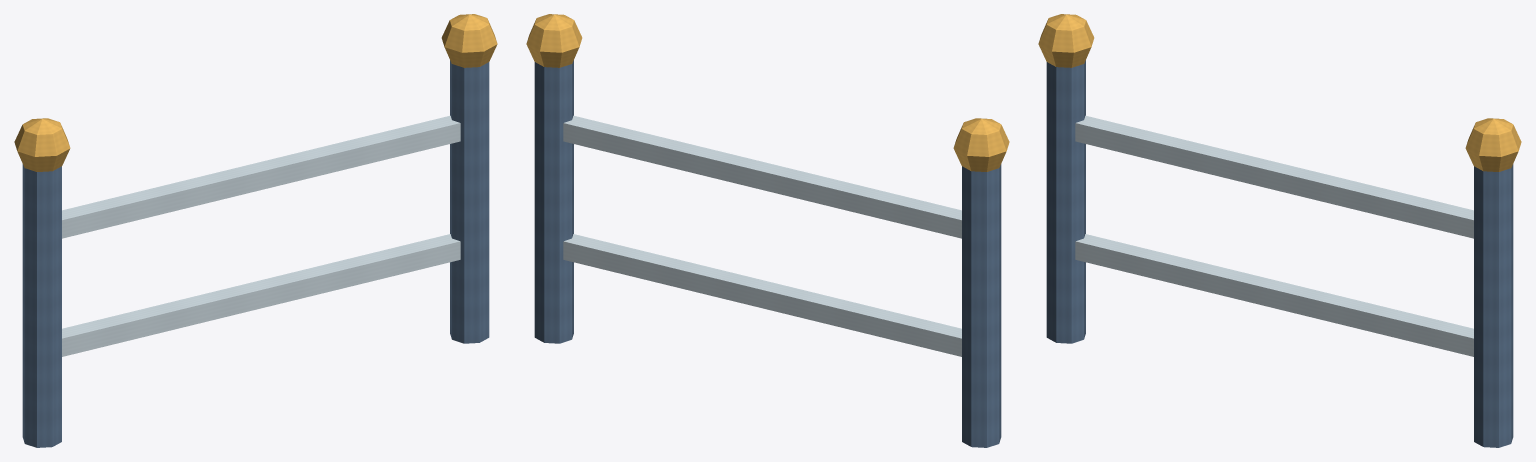
The model's file is atlas100-polar-util04.glb.
3 renders of one model, left to right at view 1: azimuth 30°, elevation 25°; view 2: azimuth 150°, elevation 25°; view 3: azimuth 330°, elevation 25°, orthographic.
Parts seen in each view (by area): view 1: atlas100-polar-util04:part-004, atlas100-polar-util04:part-005, atlas100-polar-util04:part-000, atlas100-polar-util04:part-002, atlas100-polar-util04:part-001, atlas100-polar-util04:part-003; view 2: atlas100-polar-util04:part-004, atlas100-polar-util04:part-005, atlas100-polar-util04:part-000, atlas100-polar-util04:part-002, atlas100-polar-util04:part-001, atlas100-polar-util04:part-003; view 3: atlas100-polar-util04:part-004, atlas100-polar-util04:part-005, atlas100-polar-util04:part-002, atlas100-polar-util04:part-000, atlas100-polar-util04:part-001, atlas100-polar-util04:part-003.
Boxes of the visible parts, <box> form: atlas100-polar-util04:part-004: <box>62,234,460,356</box>; atlas100-polar-util04:part-005: <box>62,115,460,238</box>; atlas100-polar-util04:part-000: <box>22,164,61,447</box>; atlas100-polar-util04:part-002: <box>450,60,489,343</box>; atlas100-polar-util04:part-001: <box>14,118,70,171</box>; atlas100-polar-util04:part-003: <box>441,14,497,67</box>; atlas100-polar-util04:part-004: <box>563,234,961,356</box>; atlas100-polar-util04:part-005: <box>563,115,961,238</box>; atlas100-polar-util04:part-000: <box>962,164,1001,447</box>; atlas100-polar-util04:part-002: <box>534,60,573,343</box>; atlas100-polar-util04:part-001: <box>953,118,1009,171</box>; atlas100-polar-util04:part-003: <box>526,14,582,67</box>; atlas100-polar-util04:part-004: <box>1075,234,1473,356</box>; atlas100-polar-util04:part-005: <box>1075,115,1473,238</box>; atlas100-polar-util04:part-002: <box>1474,164,1513,447</box>; atlas100-polar-util04:part-000: <box>1046,60,1085,343</box>; atlas100-polar-util04:part-001: <box>1038,14,1094,67</box>; atlas100-polar-util04:part-003: <box>1465,118,1521,171</box>.
Size of the model in its own units: 1.99 by 1.28 by 0.2092.
Materials: 3 (3 with a texture image).
